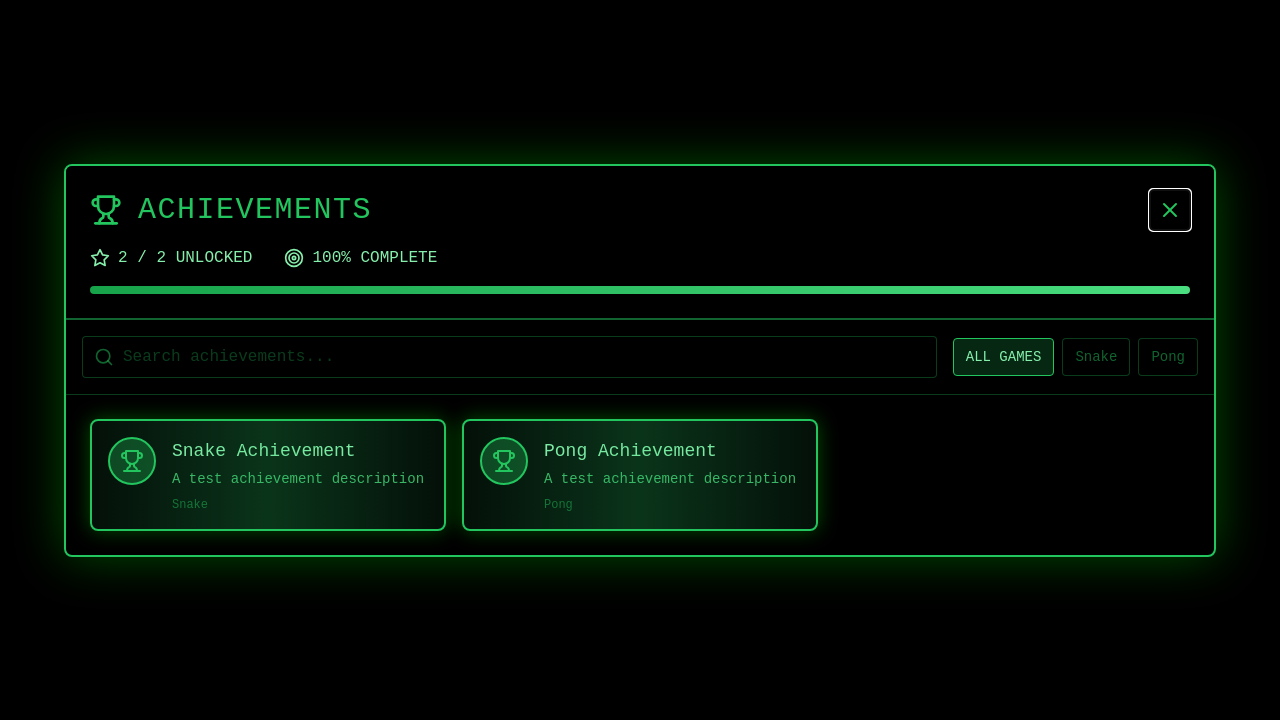
Test: AchievementDisplay › Game Filter › filters by game when game button clicked
The image size is (1280, 720).
Click the button "Snake" at (1096,356), box x1=1062 y1=338 x2=1130 y2=376
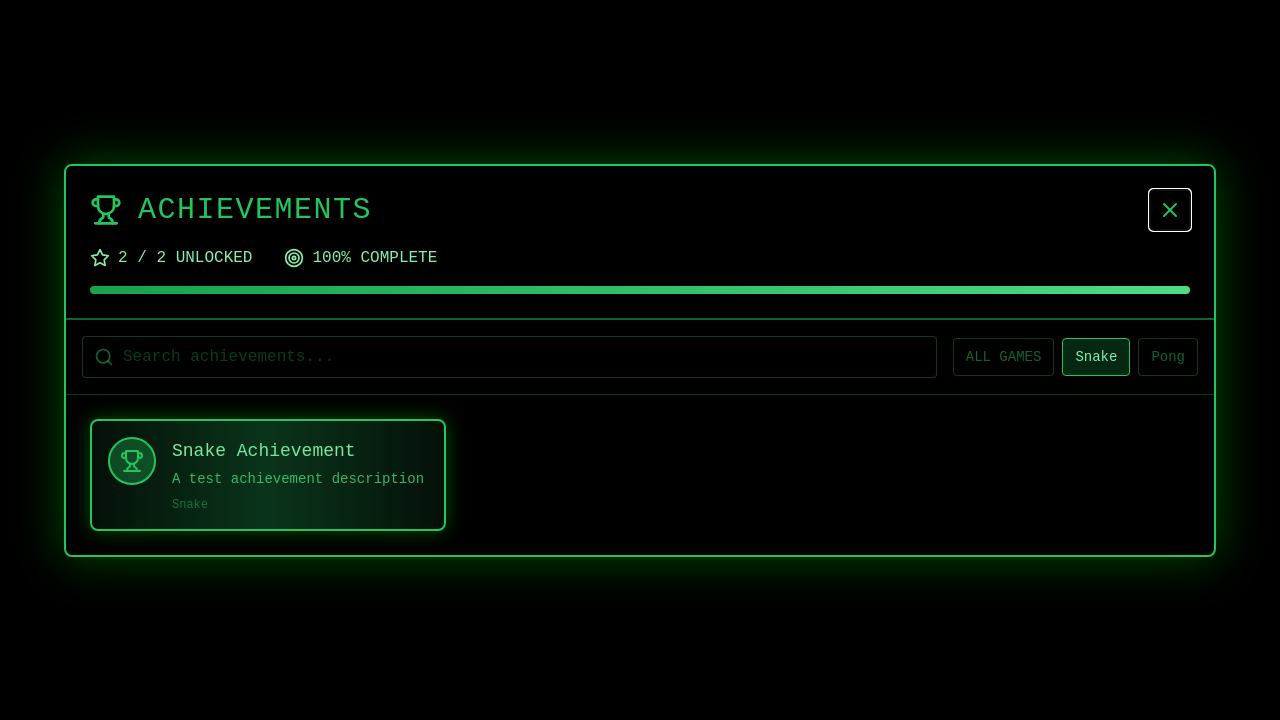
Expected: the heading "Snake Achievement" is shown, x1=172 y1=440 x2=356 y2=460
Result: the heading "Pong Achievement" is gone
